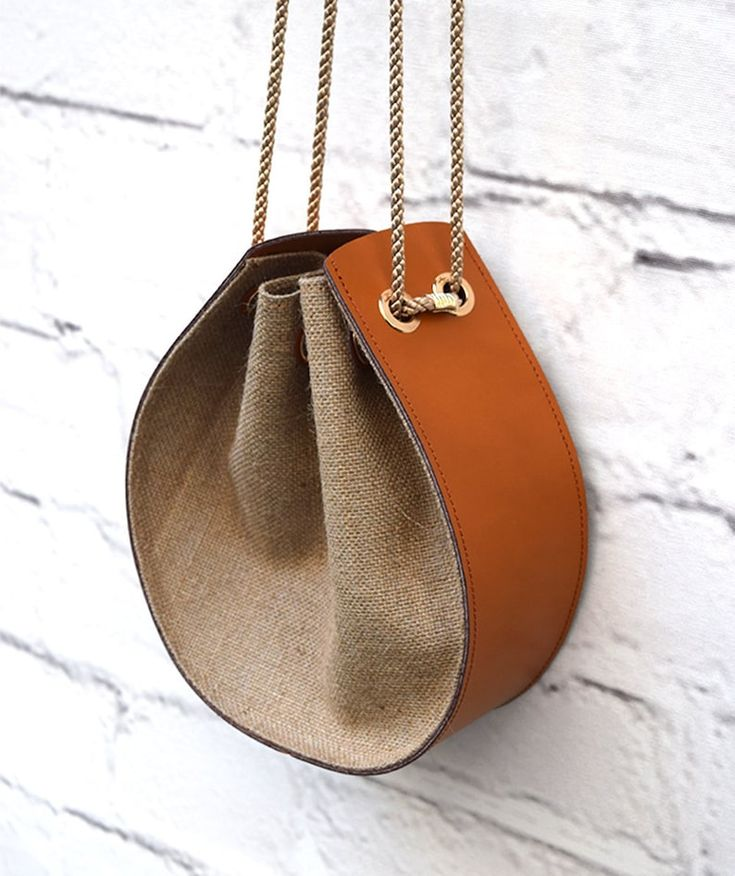cuero: (323, 220, 589, 747)
